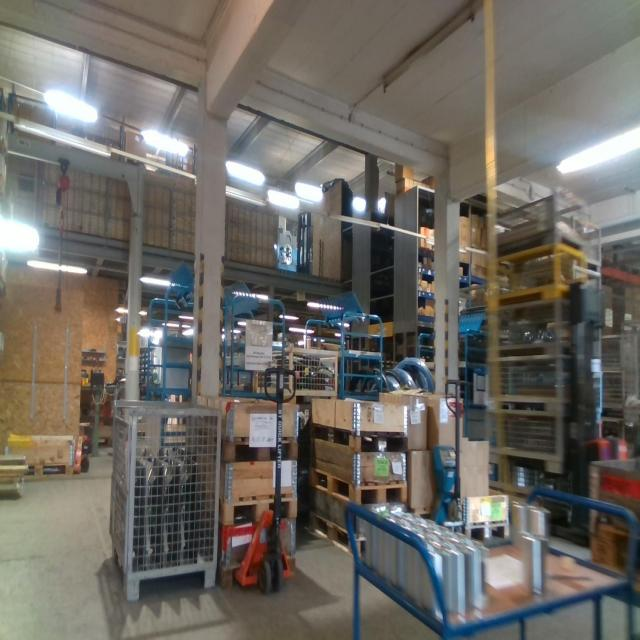pallet: (310, 457, 409, 506), (309, 414, 412, 456), (309, 511, 368, 565), (222, 490, 300, 528), (220, 555, 297, 589), (224, 438, 299, 464), (466, 518, 510, 544), (4, 459, 75, 475)
pallet_truck: (233, 358, 301, 587), (427, 381, 469, 549), (76, 367, 94, 477)
stillage: (108, 396, 224, 601), (490, 237, 604, 313), (494, 195, 606, 269), (495, 294, 602, 361), (498, 353, 598, 418), (482, 396, 562, 472), (255, 342, 336, 397)
